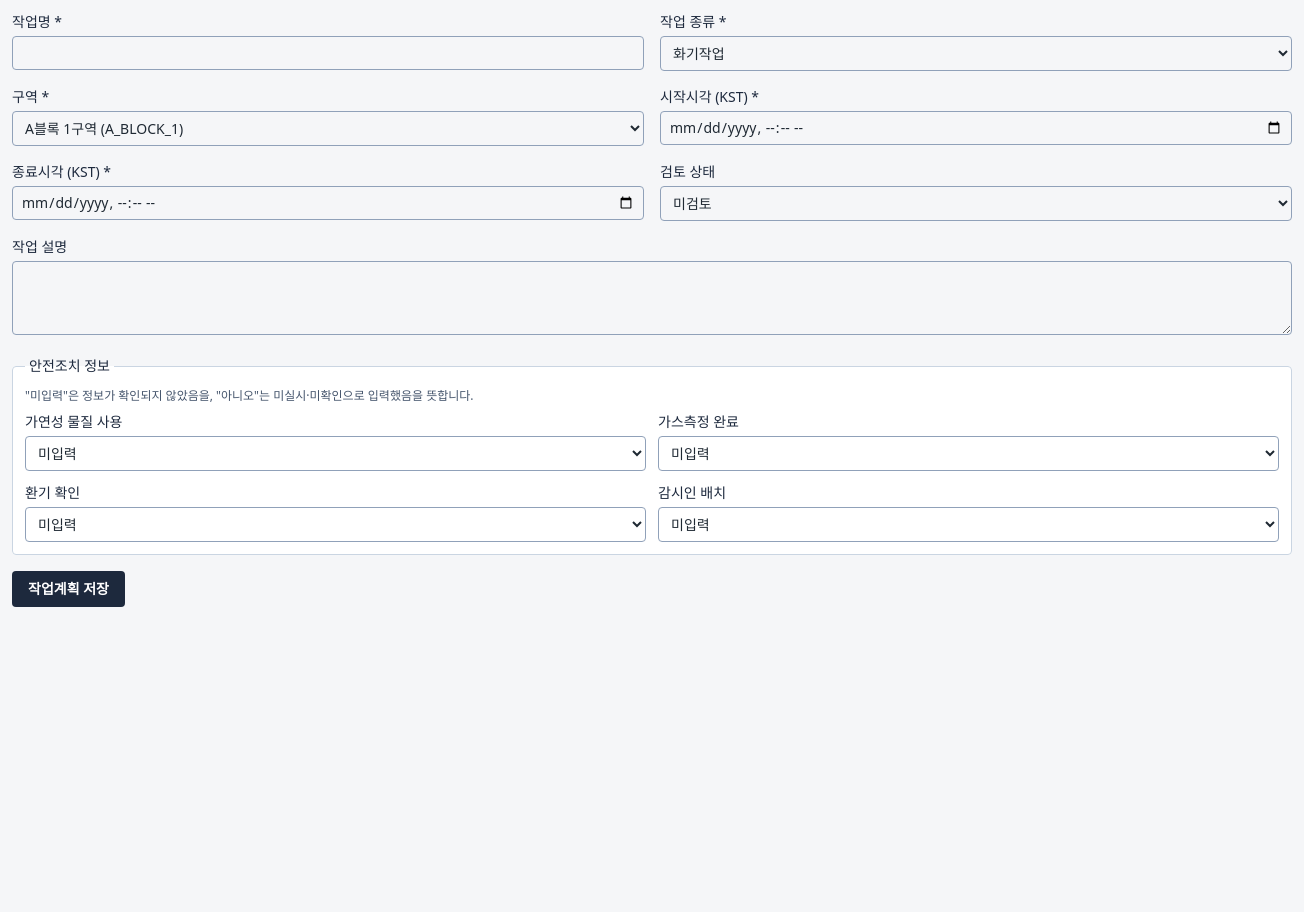
작업 직접 등록 폼 › 필수 항목이 비면 저장하지 않고 필드 오류를 보여준다
This screenshot has width=1304, height=912.
Click the button "작업계획 저장": (68, 589) [12,571,125,607]
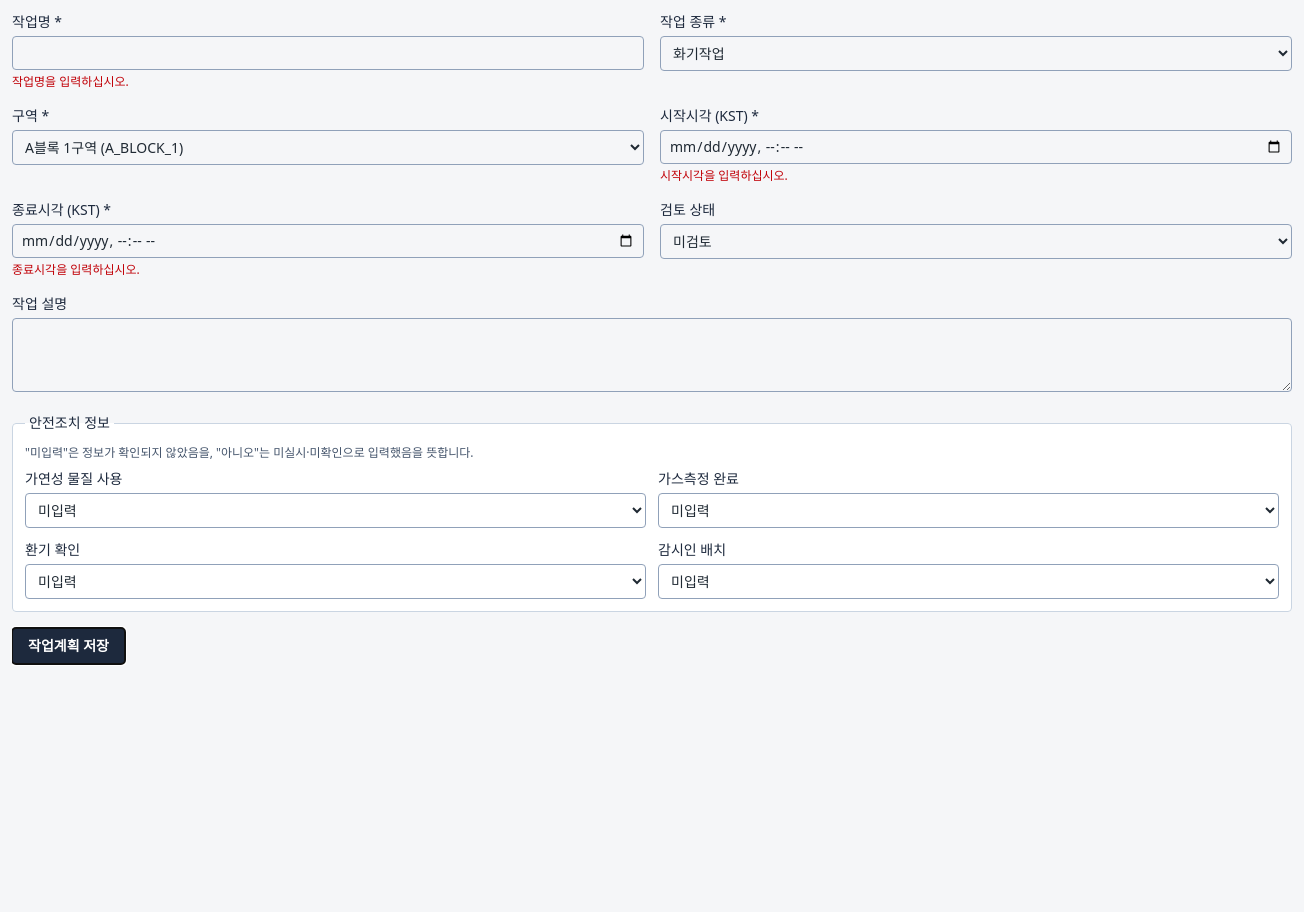
expect the text "작업명을 입력하십시오." is shown: met, box [12,73,129,90]
expect the text "시작시각을 입력하십시오." is shown: met, box [660,167,788,184]
